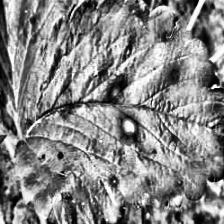Leaf Spot: (11, 0, 224, 224), (0, 0, 85, 127)
